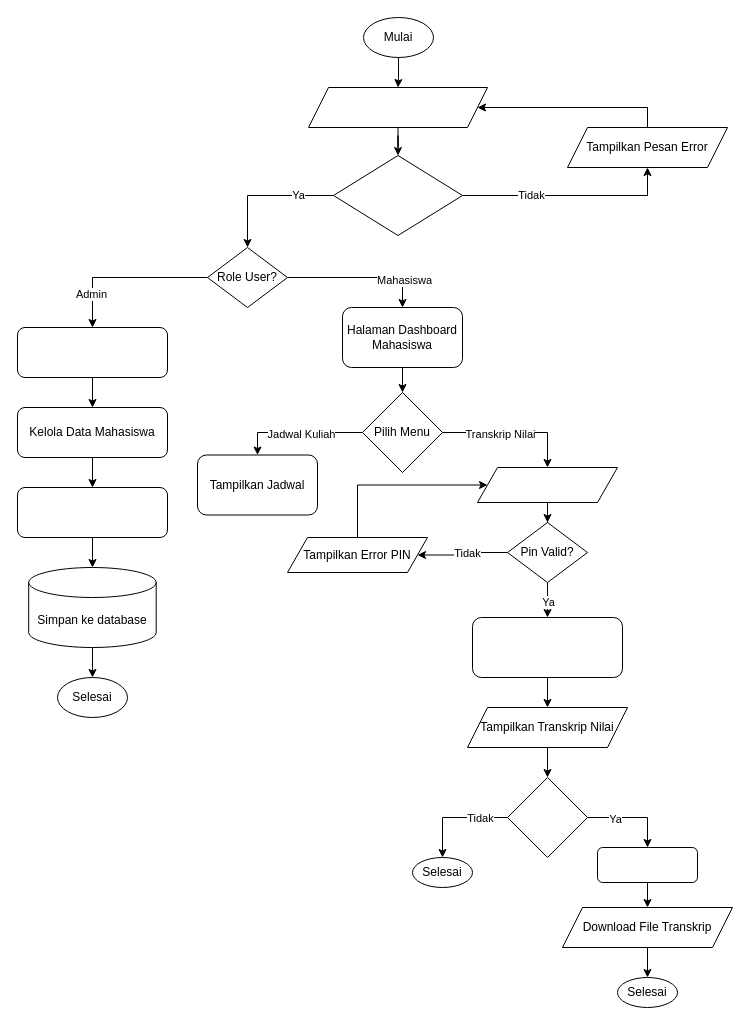
Some shapes in this 750 by 1025 pixel diagram are drawn without their labels. The shapes that lost their labels are listed below. From the top down, each one's box as (x1, y1, x2, y2) in pixels, then its label:
(308, 86, 488, 128): Input NIM dan Password
(332, 154, 462, 236): Kredensial Valid? (Argon2)
(16, 326, 168, 378): Halaman Dashboard Admin
(476, 466, 618, 502): Input PIN Verifikasi
(16, 486, 168, 538): Enkripsi Otomatis Data (AES-256-GCM)
(472, 616, 622, 678): Dekripsi Data Nilai dan IPK (AES-256-GCM)
(506, 776, 588, 858): Unduh Transkrip?
(596, 846, 698, 882): Generate File Transkrip
